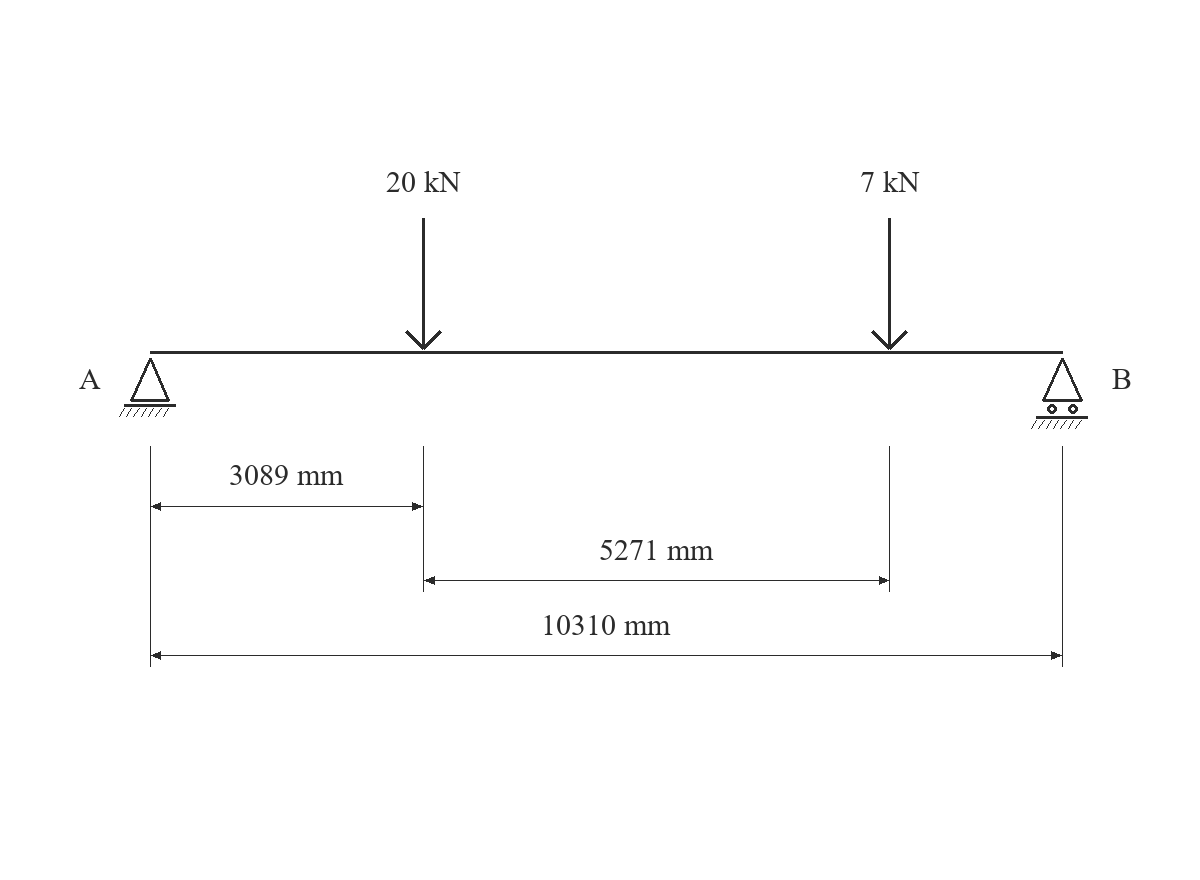pin_support: (119, 358, 176, 417)
point_load: (405, 218, 442, 350), (871, 218, 908, 350)
roller_support: (1031, 358, 1088, 429)
